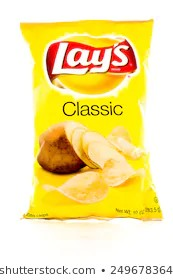lays-med: (19, 16, 157, 221)
